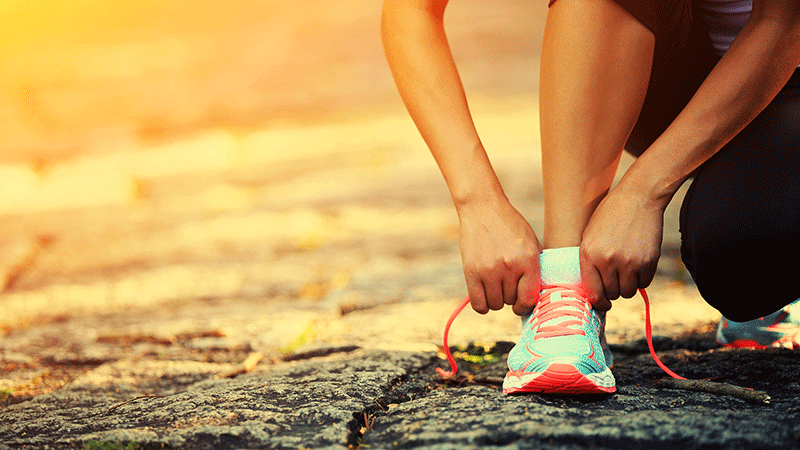feet: (501, 190, 795, 392)
